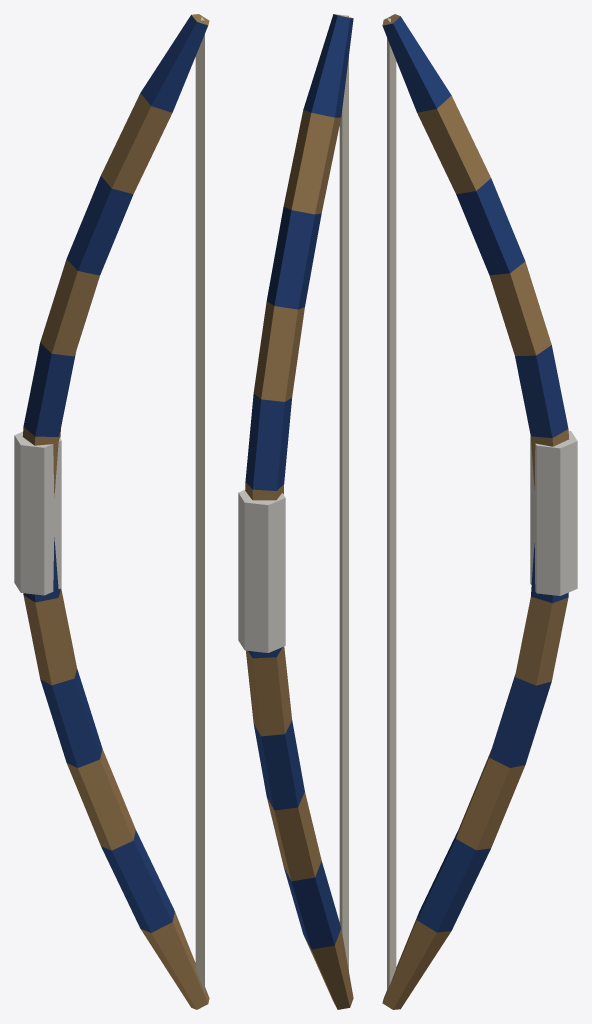
Rendered from weapon_bow.glb.
3 renders of one model, left to right at view 1: azimuth 90°, elevation 25°; view 2: azimuth 150°, elevation 25°; view 3: azimuth 270°, elevation 25°, orthographic.
Parts seen in each view (by area): view 1: owl_weapon_bow; view 2: owl_weapon_bow; view 3: owl_weapon_bow.
Part boxes in pixels (x1=…): owl_weapon_bow: x1=14, y1=14, x2=209, y2=1009; owl_weapon_bow: x1=238, y1=14, x2=353, y2=1009; owl_weapon_bow: x1=382, y1=14, x2=577, y2=1009.
Size of the model in its own units: 0.0417 by 0.9681 by 0.1724.
